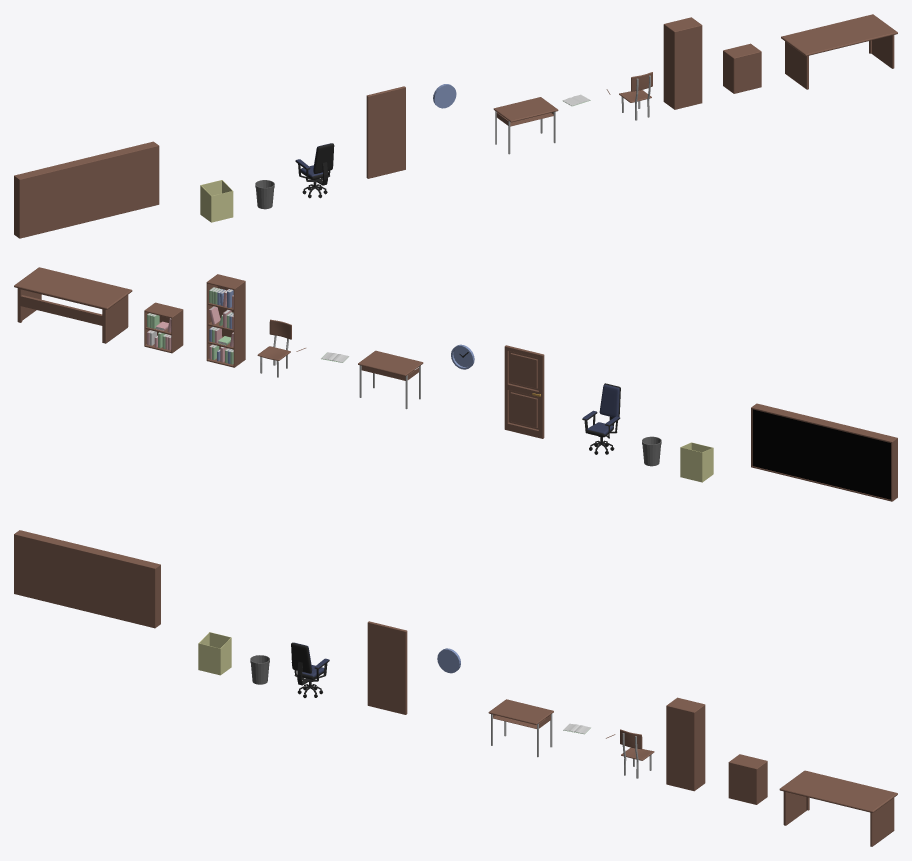
Rendered from LowPolyClassroomAssets.fbx.
3 views of the same model, one above another, from view 1: azimuth 30°, elevation 25°; view 2: azimuth 150°, elevation 25°; view 3: azimuth 330°, elevation 25° (orthographic).
Visible parts, largest first — view 1: pCube13, pCube15, pCube310, pCube21, pCube298, pCube22, square_bin, pCube8, round_bin, pCube135; view 2: pCube14, pCube310, pCube21, pCube22, pCube15, pCube13, square_bin, pCube298, pCube8, pCube131, round_bin; view 3: pCube13, pCube310, pCube15, pCube21, pCube298, pCube22, square_bin, pCube8.
Part boxes in pixels (x1,y1,x2,y2): pCube13: (14, 141, 159, 238); pCube15: (663, 17, 702, 109); pCube310: (366, 86, 405, 178); pCube21: (781, 14, 897, 56); pCube298: (723, 43, 761, 93); pCube22: (785, 35, 894, 89); square_bin: (200, 180, 233, 222); pCube8: (493, 97, 558, 122); round_bin: (255, 180, 274, 209); pCube135: (313, 143, 334, 173); pCube14: (752, 409, 890, 499); pCube310: (504, 345, 544, 438); pCube21: (14, 267, 132, 309); pCube22: (17, 288, 128, 343); pCube15: (206, 274, 245, 367); pCube13: (751, 403, 897, 501); square_bin: (680, 442, 713, 482); pCube298: (144, 302, 183, 353); pCube8: (358, 350, 423, 376); pCube131: (599, 384, 619, 417); round_bin: (642, 436, 661, 466); pCube13: (14, 530, 160, 628); pCube310: (367, 621, 407, 714); pCube15: (666, 697, 705, 791); pCube21: (779, 770, 897, 812); pCube298: (728, 754, 767, 804); pCube22: (783, 791, 894, 846); square_bin: (198, 632, 231, 675); pCube8: (488, 699, 553, 724).
Size of the model in its own units: 152 by 15.09 by 7.65.
